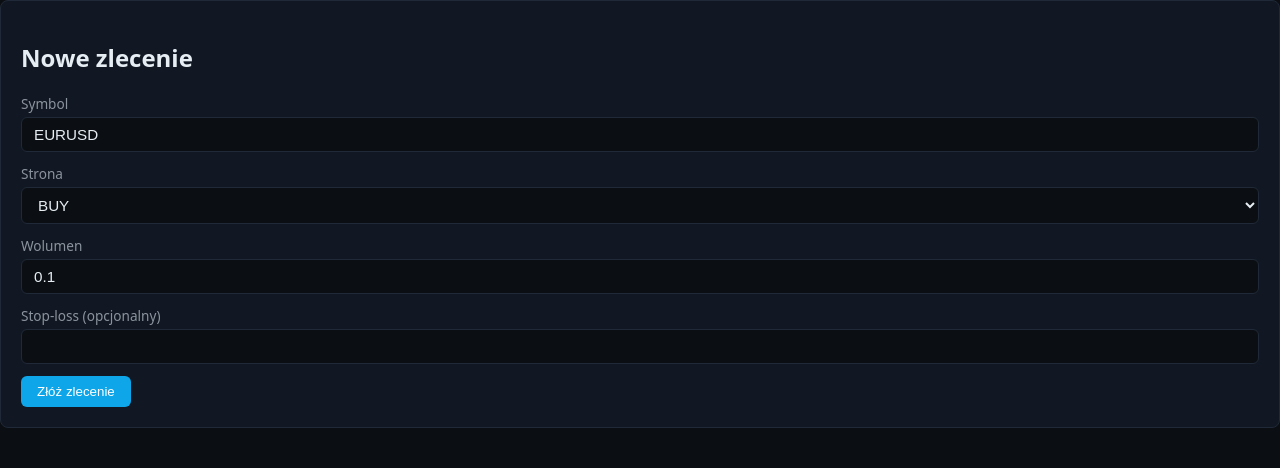
Test: OrderForm — walidacja touched-first › błąd symbolu pojawia się dopiero po blur
The width and height of the screenshot is (1280, 468).
Replace the text in the field with test id "order-symbol" with "abc" at (640, 134), box [21,117,1259,152]
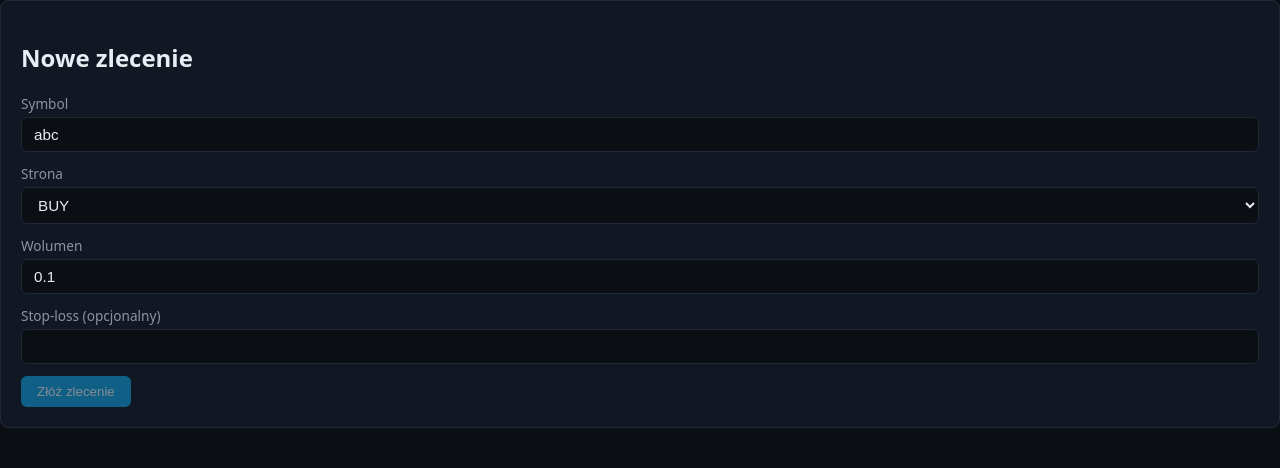
Leave the field with test id "order-symbol", box [21,117,1259,152]
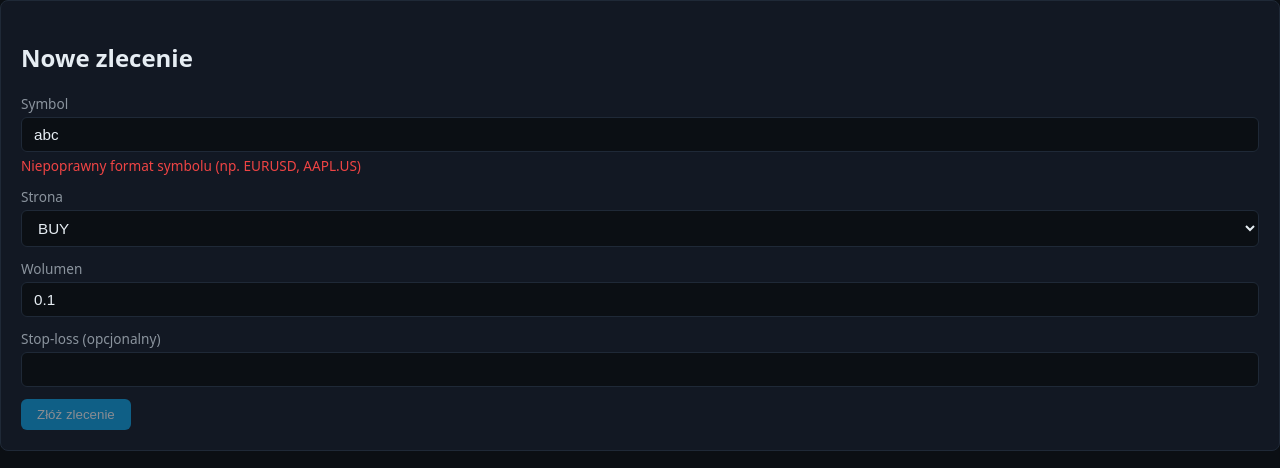
Check: the text "Niepoprawny format symbolu (np. EURUSD, AAPL.US)" is shown, box [21,156,361,175]
